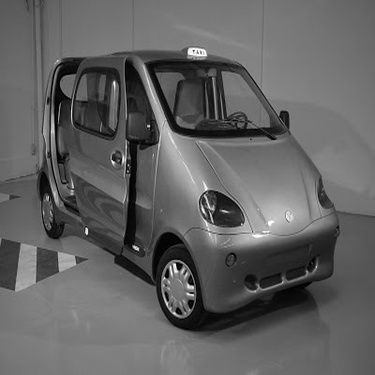car: (34, 40, 343, 333)
